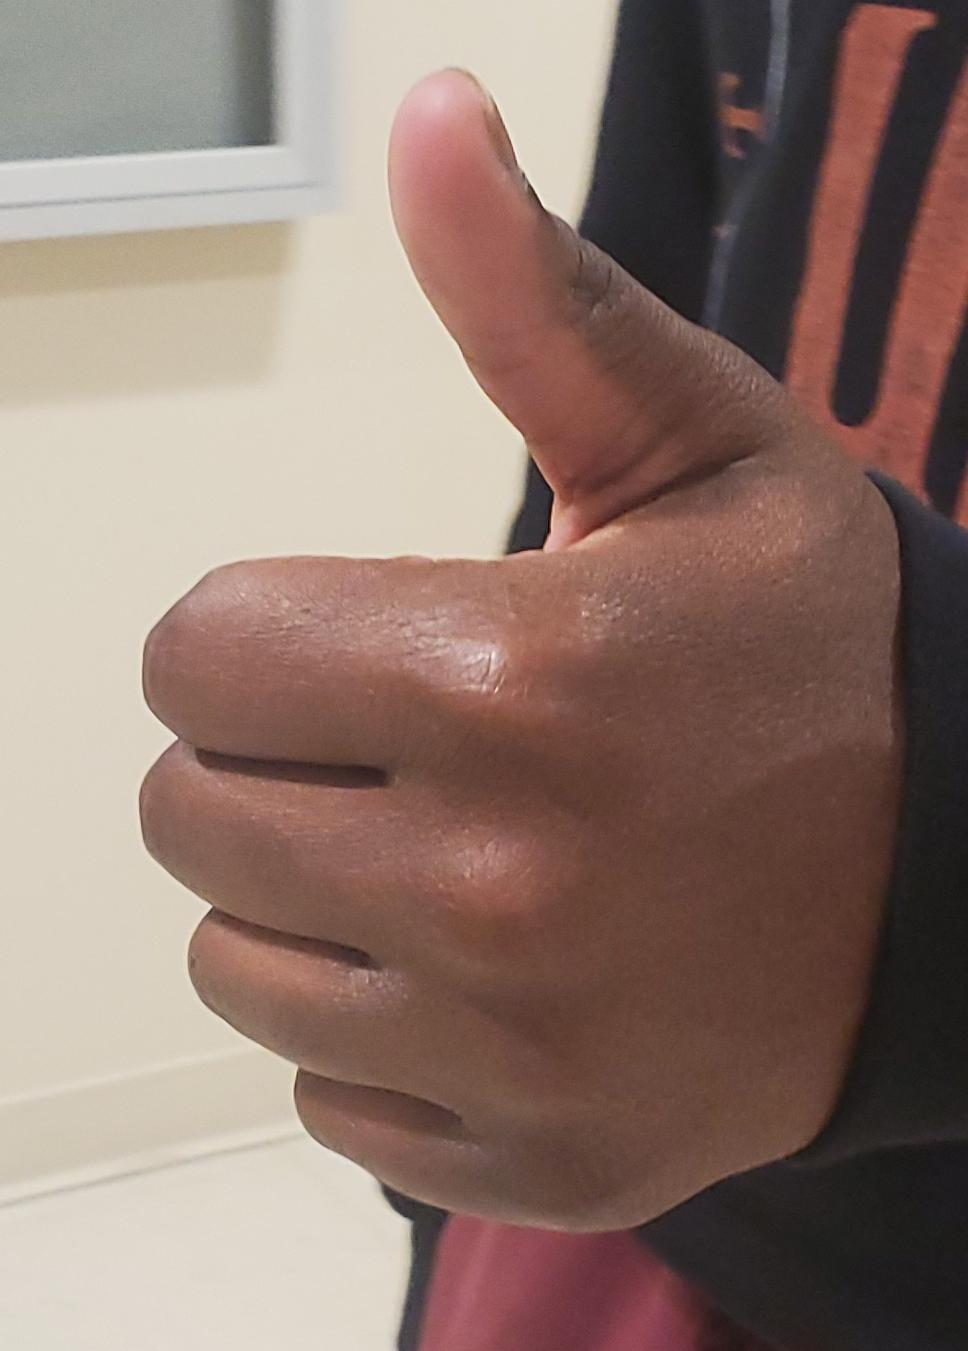up: (0, 1, 968, 1351)
